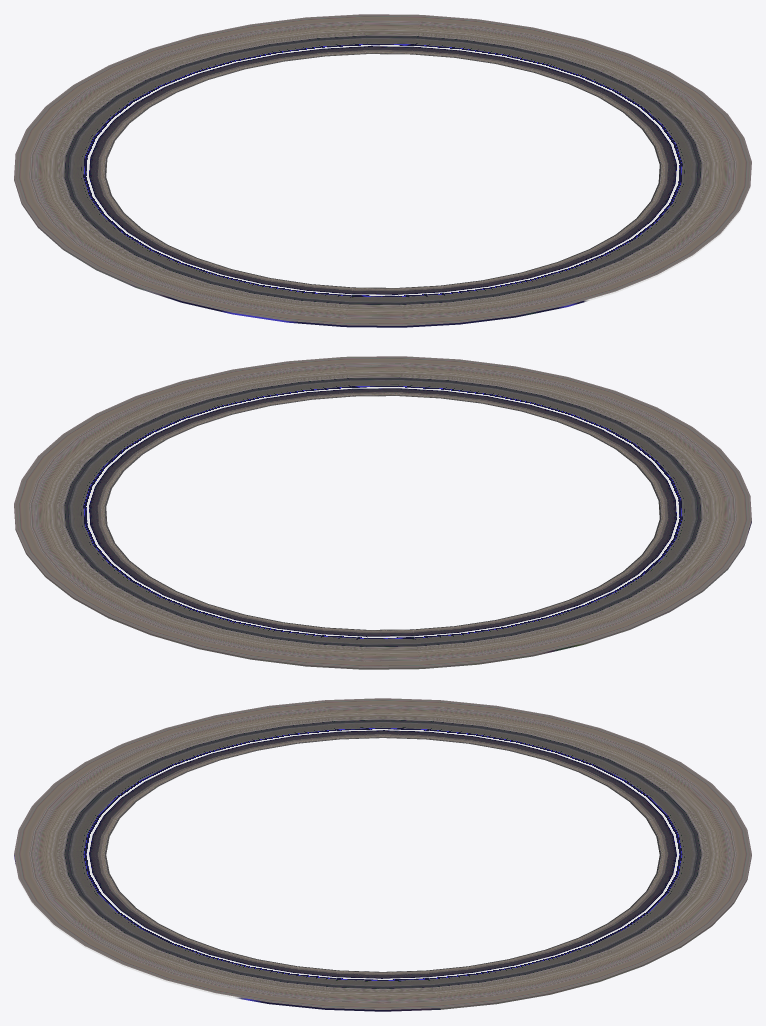
File: SaturnRing.obj
3 views of the same model, one above another, from view 1: azimuth 30°, elevation 25°; view 2: azimuth 150°, elevation 25°; view 3: azimuth 270°, elevation 25° (orthographic).
Visible parts, largest first — view 1: pTorus1; view 2: pTorus1; view 3: pTorus1.
Boxes of the visible parts, left/top/right/bottom form: pTorus1: left=14, top=14, right=751, bottom=327; pTorus1: left=14, top=356, right=751, bottom=669; pTorus1: left=14, top=698, right=751, bottom=1011.
Bounding box in the file's own units: 40 × 0.1 × 40.
